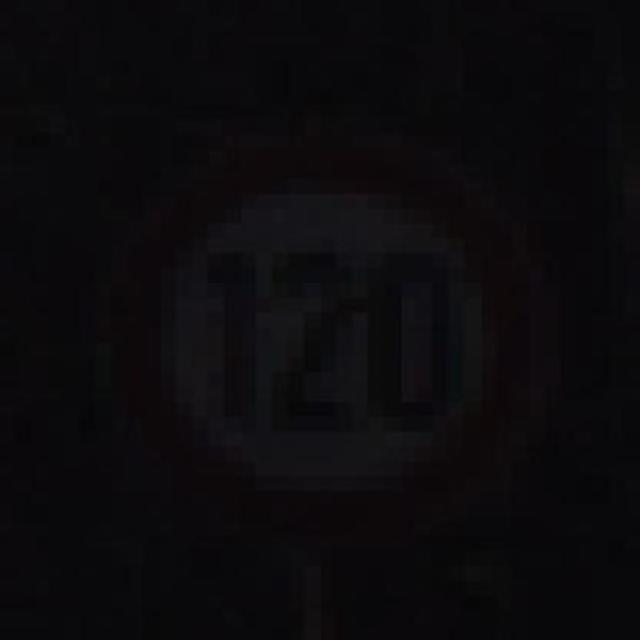forb_speed_over_120: (123, 137, 543, 538)
